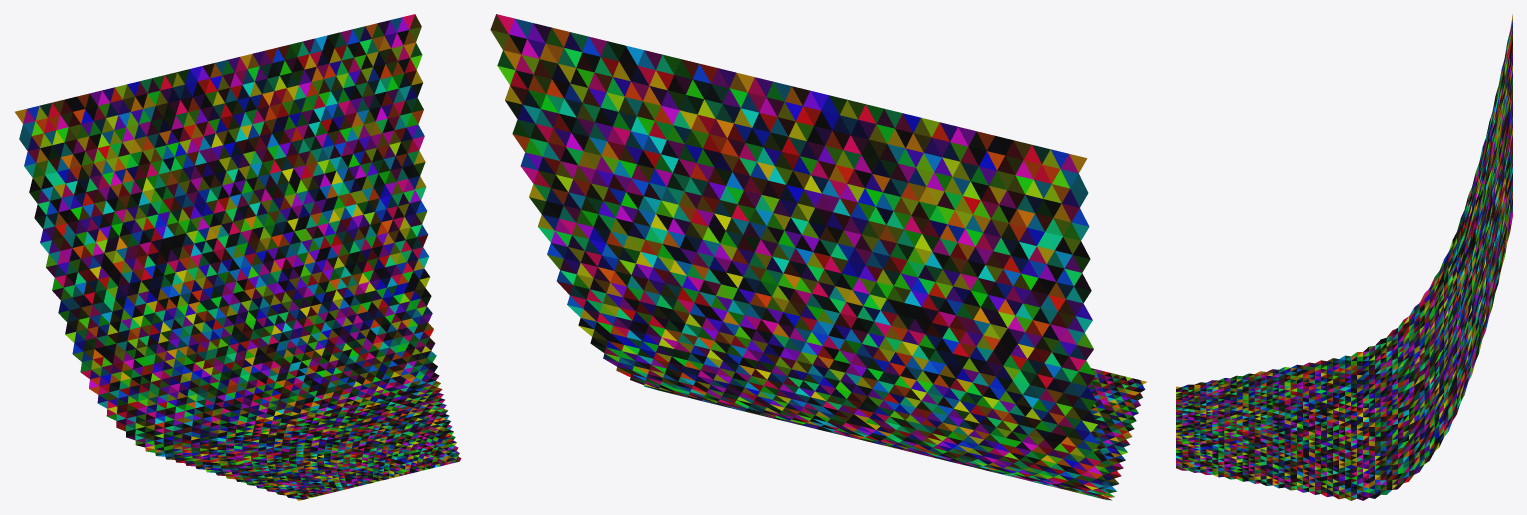
Rendered from SM_Collapse.fbx.
3 views of the same model, side by side, from view 1: azimuth 30°, elevation 25°; view 2: azimuth 150°, elevation 25°; view 3: azimuth 270°, elevation 25° (orthographic). The views are drawn at different scales.
Parts seen in each view (by area): view 1: Plane; view 2: Plane; view 3: Plane.
Boxes of the visible parts, x1,y1,x2,y2 form: Plane: (15, 14, 461, 500); Plane: (490, 14, 1146, 500); Plane: (1176, 14, 1512, 500).
Bounding box in the file's own units: 161 × 114 × 112.
